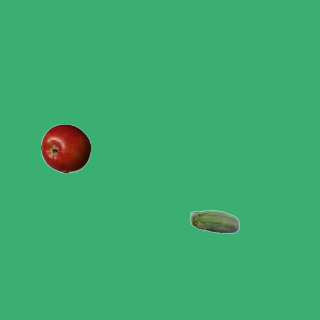Apple Braeburn: (40, 123, 90, 173)
Corn Husk: (189, 198, 239, 248)
